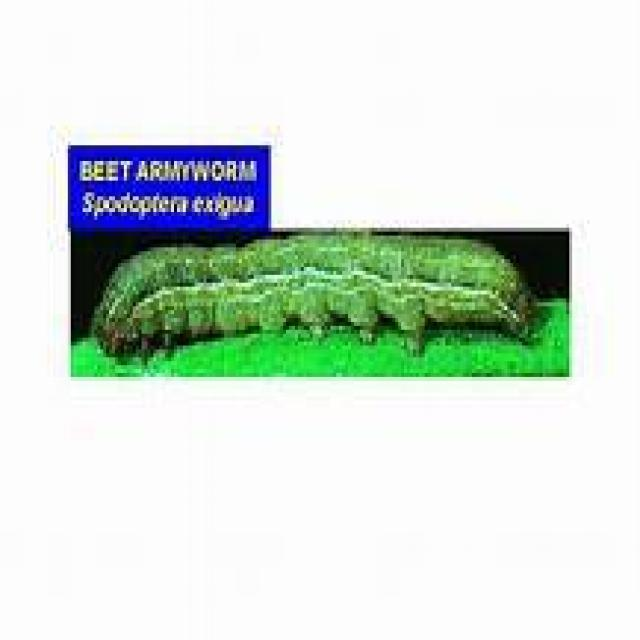BeetArmyWorm-Larva-: (88, 225, 542, 371)
